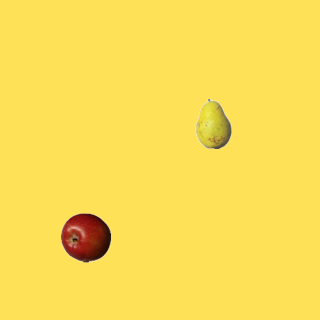Apple Braeburn: (60, 212, 110, 262)
Pear Monster: (188, 98, 238, 148)
